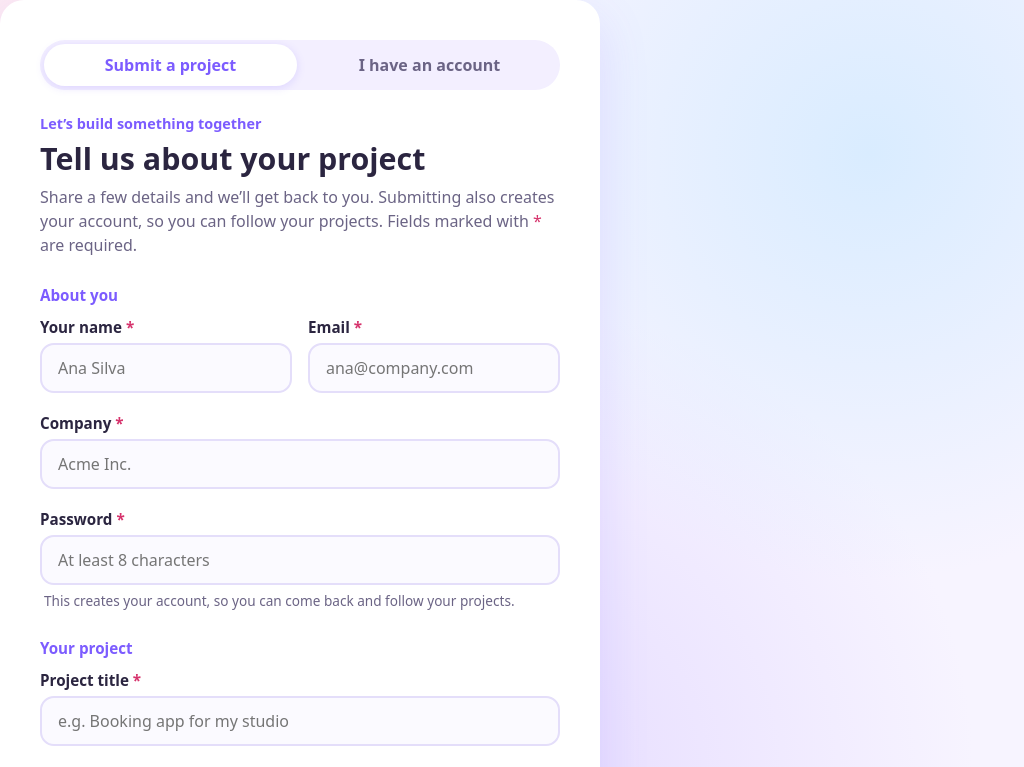
AuthPanel › switches to the login form and back
This screenshot has width=1024, height=767.
Click the tab "I have an account" at (430, 65), box [303, 44, 556, 86]
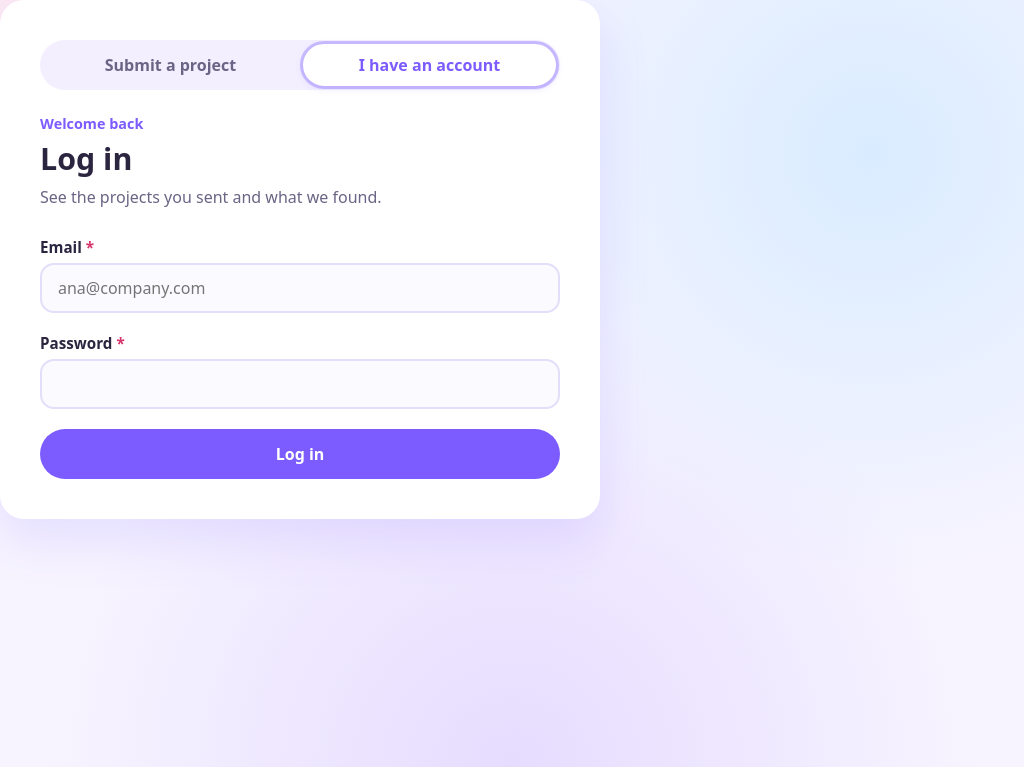
Expected: the button "Log in" is shown, [40, 430, 560, 480]
Expected: the label labelled "Project title" is gone
Click the tab "Submit a project" at (170, 65), box [44, 44, 297, 86]
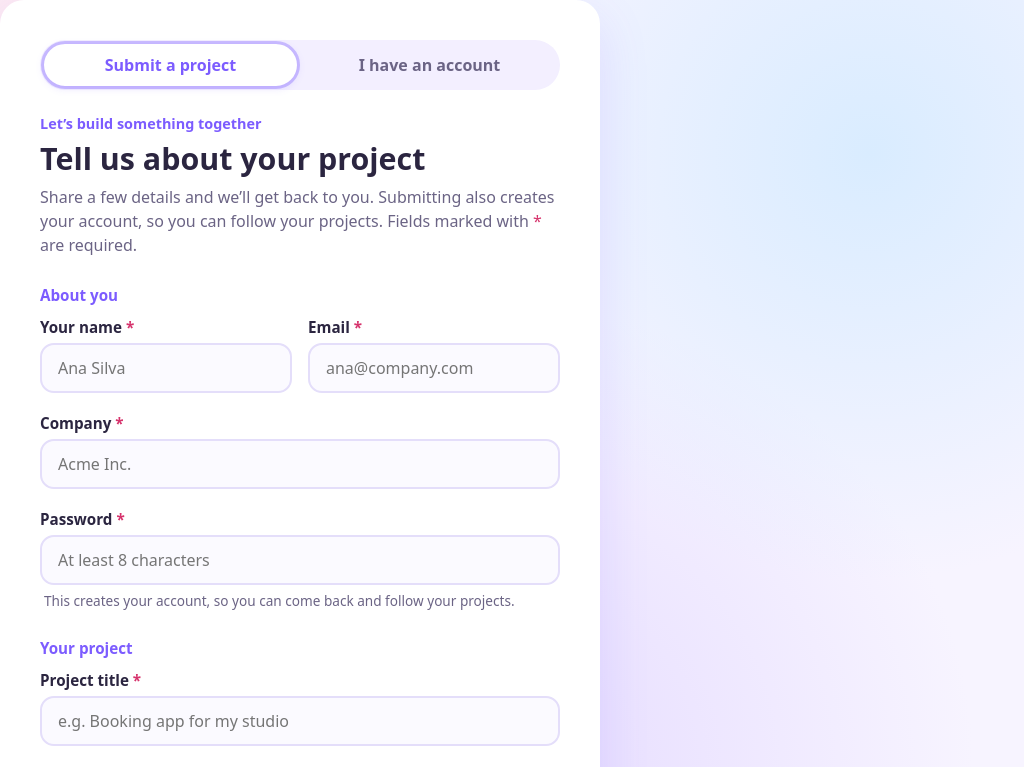
Expected: the field labelled "Project title *" is shown, [40, 696, 560, 746]
